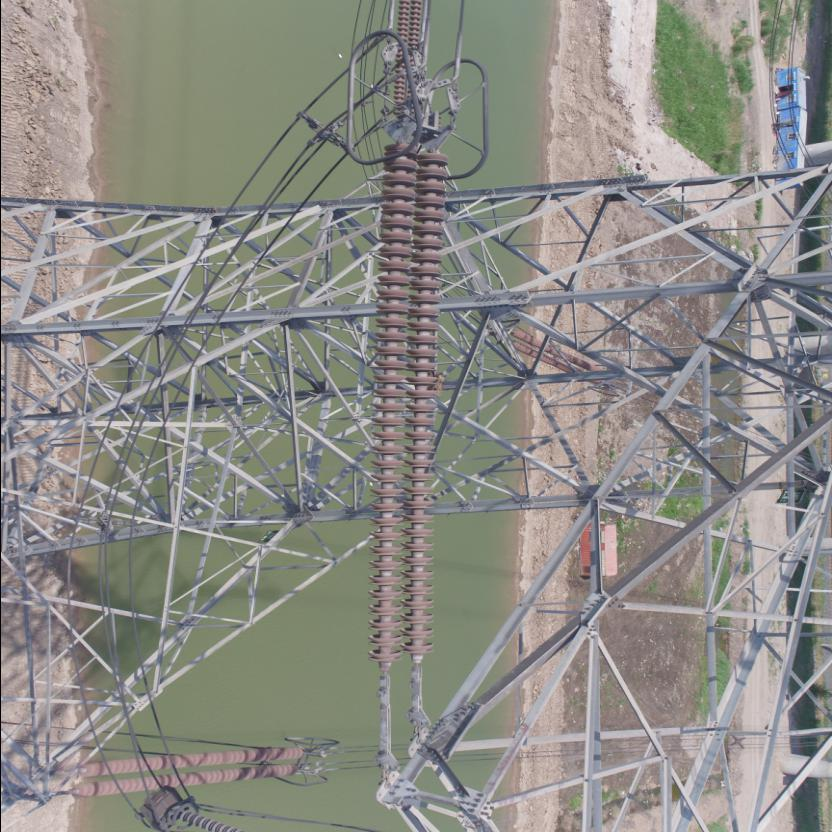insulator: (362, 134, 450, 692)
